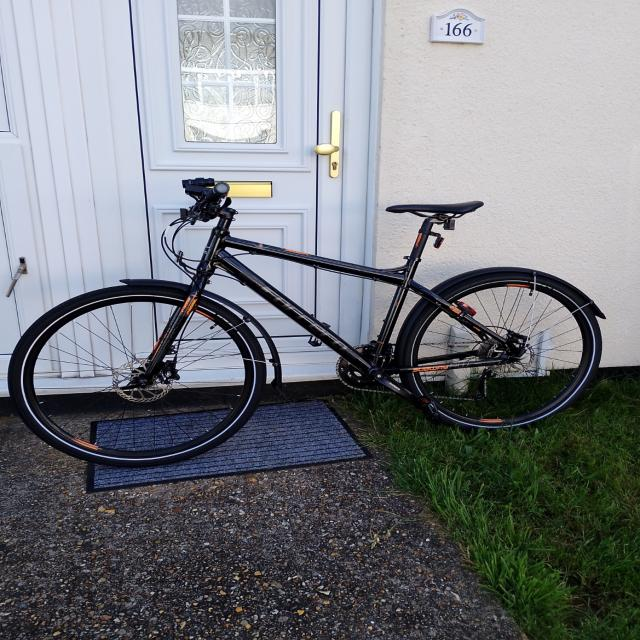bicycle: (7, 177, 606, 467)
